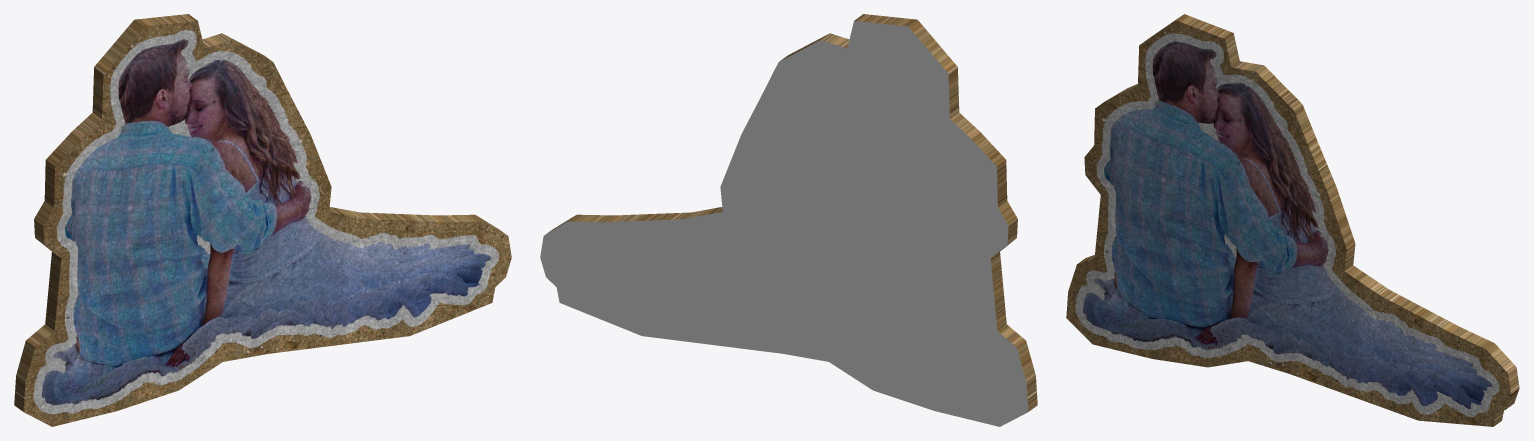
The model's file is Tourist_002.fbx.
3 renders of one model, left to right at view 1: azimuth 30°, elevation 25°; view 2: azimuth 150°, elevation 25°; view 3: azimuth 330°, elevation 25°, orthographic. The views are drawn at different scales.
Visible parts, largest first — view 1: D5MVeZ8; view 2: D5MVeZ8; view 3: D5MVeZ8.
Boxes of the visible parts, left/top/right/bottom form: D5MVeZ8: left=14, top=14, right=511, bottom=426; D5MVeZ8: left=540, top=14, right=1037, bottom=426; D5MVeZ8: left=1066, top=14, right=1519, bottom=426.
Size of the model in its own units: 107 by 3.55 by 79.12.
